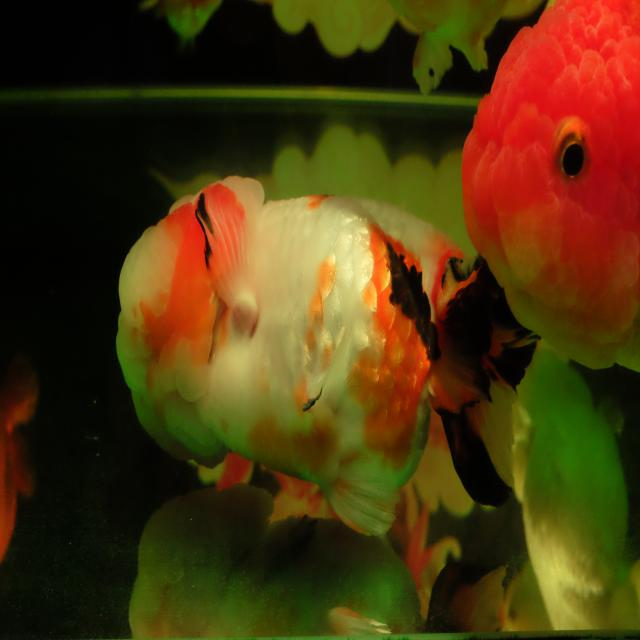Tilapia: (112, 170, 540, 538), (459, 0, 640, 377)
